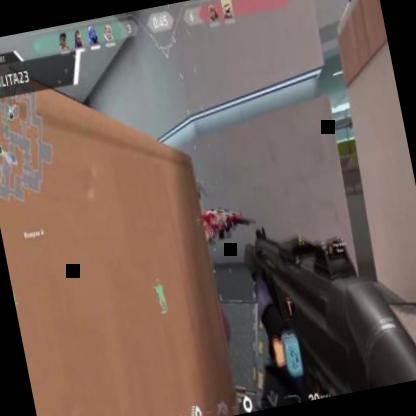enemy: (160, 167, 250, 398)
enemy_head: (174, 175, 207, 219)
